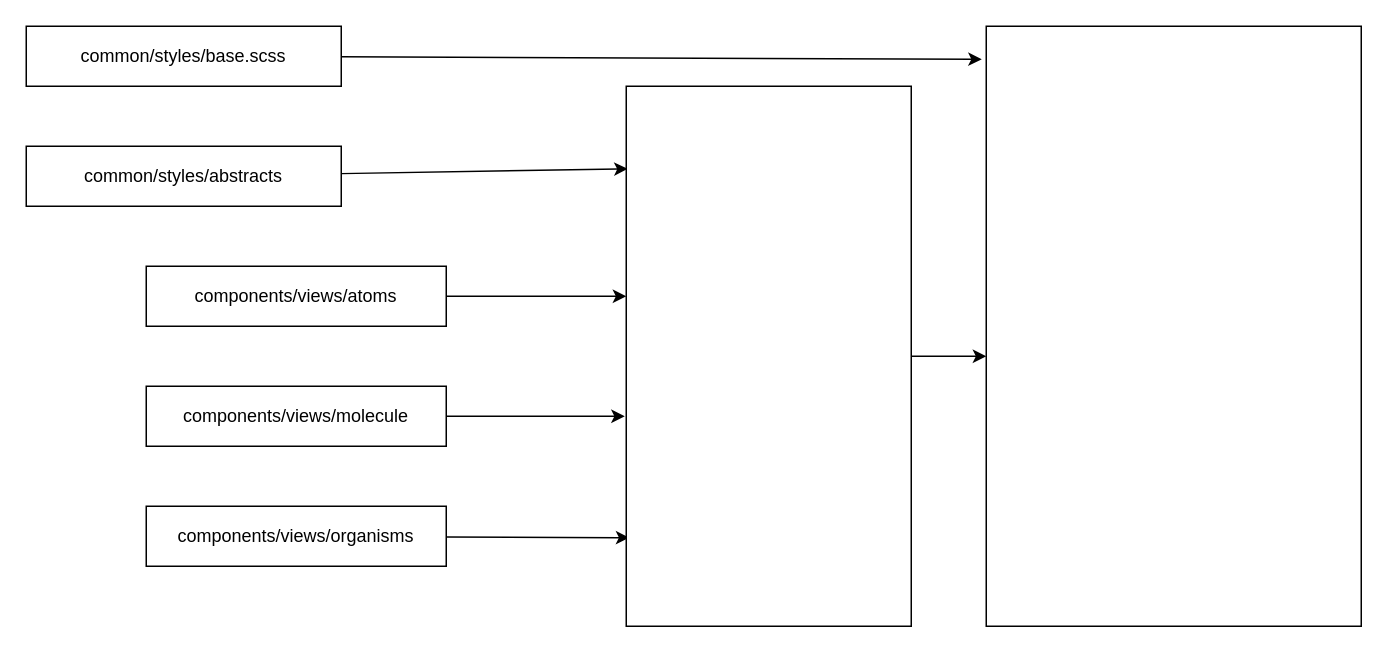
This 1388x653 diagram has some shape labels left out. Here are the shapes that lost their labels. From the top down, the box of each, then its label:
(985, 25, 1361, 626): components/controllers/pages OR components/controllers/screens
(625, 85, 911, 626): components/models/templates
